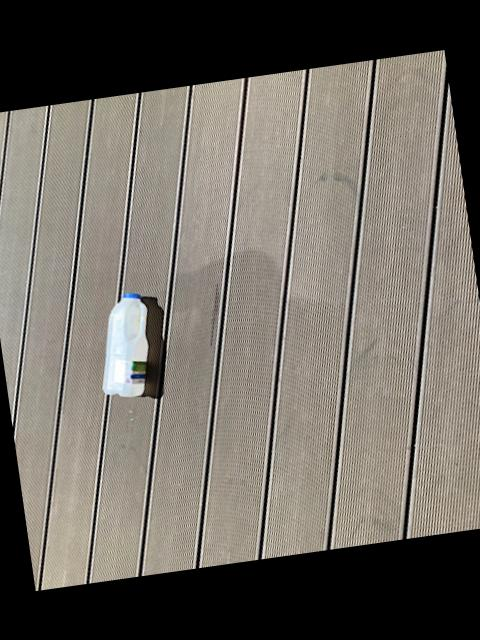plastic: (104, 291, 149, 394)
